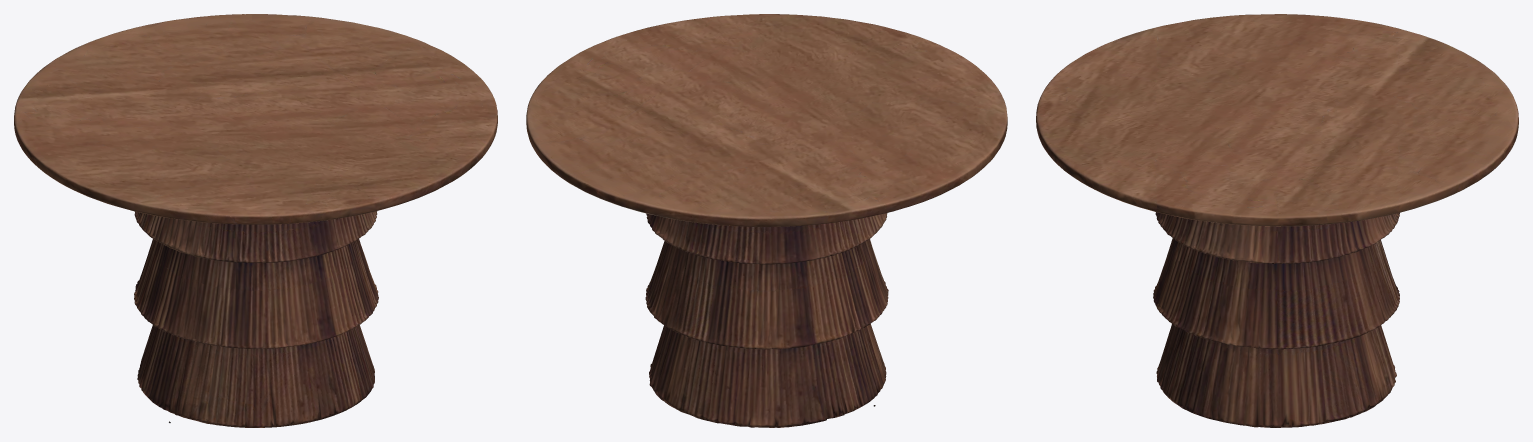
3 views of the same model, side by side, from view 1: azimuth 30°, elevation 25°; view 2: azimuth 150°, elevation 25°; view 3: azimuth 270°, elevation 25° (orthographic).
Visible parts, largest first — view 1: world; view 2: world; view 3: world.
Part boxes in pixels (x1,y1,x2,y2): world: (14,14,497,427); world: (526,14,1007,427); world: (1036,14,1518,427).
Bounding box in the file's own units: 1.2 × 0.7601 × 1.2.
1 material, 1 textured.
